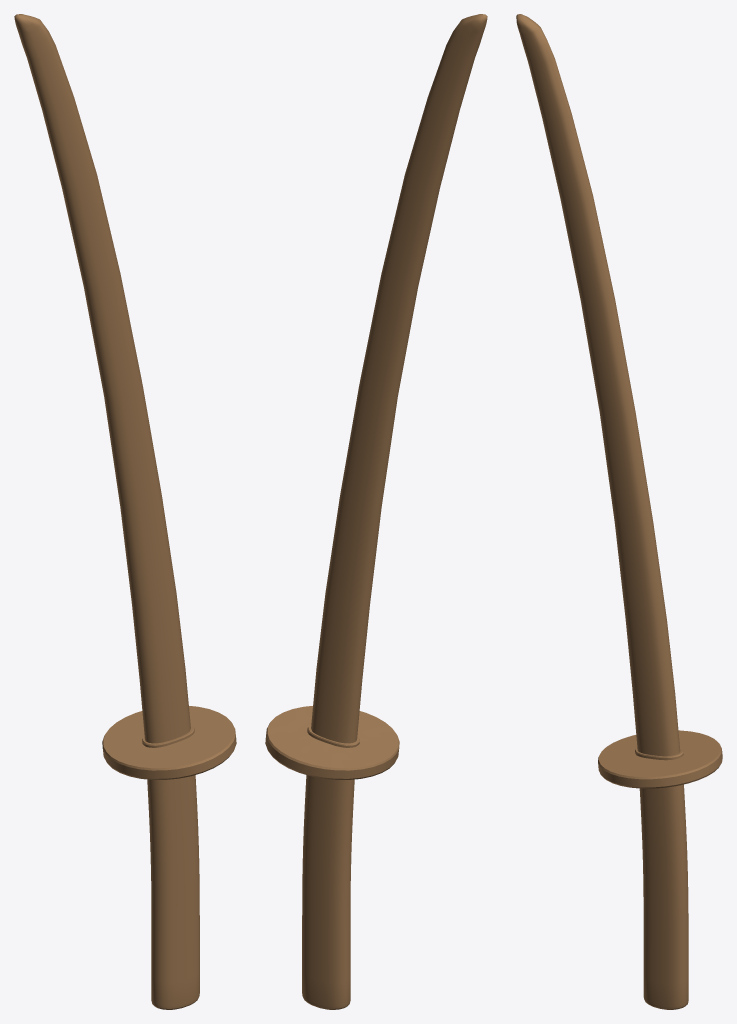
File: w_bokken.glb
3 renders of one model, left to right at view 1: azimuth 30°, elevation 25°; view 2: azimuth 150°, elevation 25°; view 3: azimuth 330°, elevation 25°, orthographic. The views are drawn at different scales.
Parts seen in each view (by area): view 1: WoodKatana; view 2: WoodKatana; view 3: WoodKatana.
Boxes of the visible parts, x1,y1,x2,y2 form: WoodKatana: [14, 14, 236, 1009]; WoodKatana: [265, 14, 487, 1009]; WoodKatana: [516, 14, 722, 1009].
Size of the model in its own units: 0.2164 by 1 by 0.1183.
